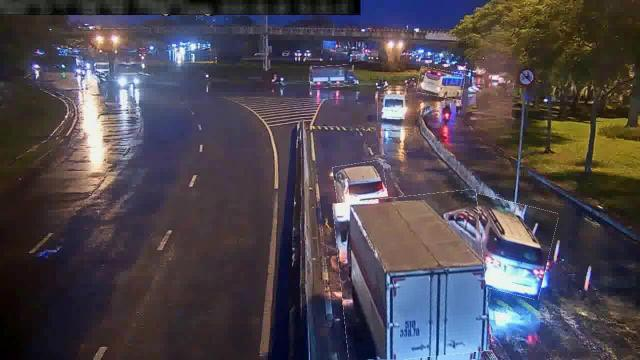Bike: (441, 101, 452, 123)
Bus: (418, 69, 464, 99), (378, 90, 408, 122)
Car: (460, 198, 554, 296), (334, 162, 388, 212)
Truck: (337, 193, 489, 360), (310, 65, 354, 87)
